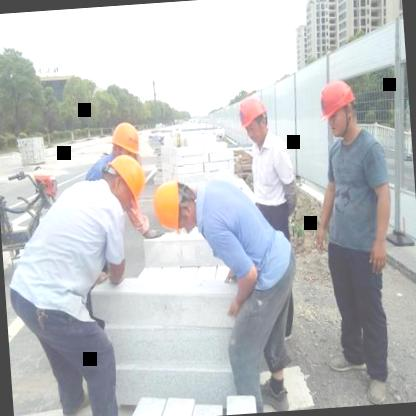helmet: (93, 146, 152, 214), (316, 73, 362, 141), (150, 174, 195, 239), (236, 90, 272, 147), (109, 118, 145, 170)
